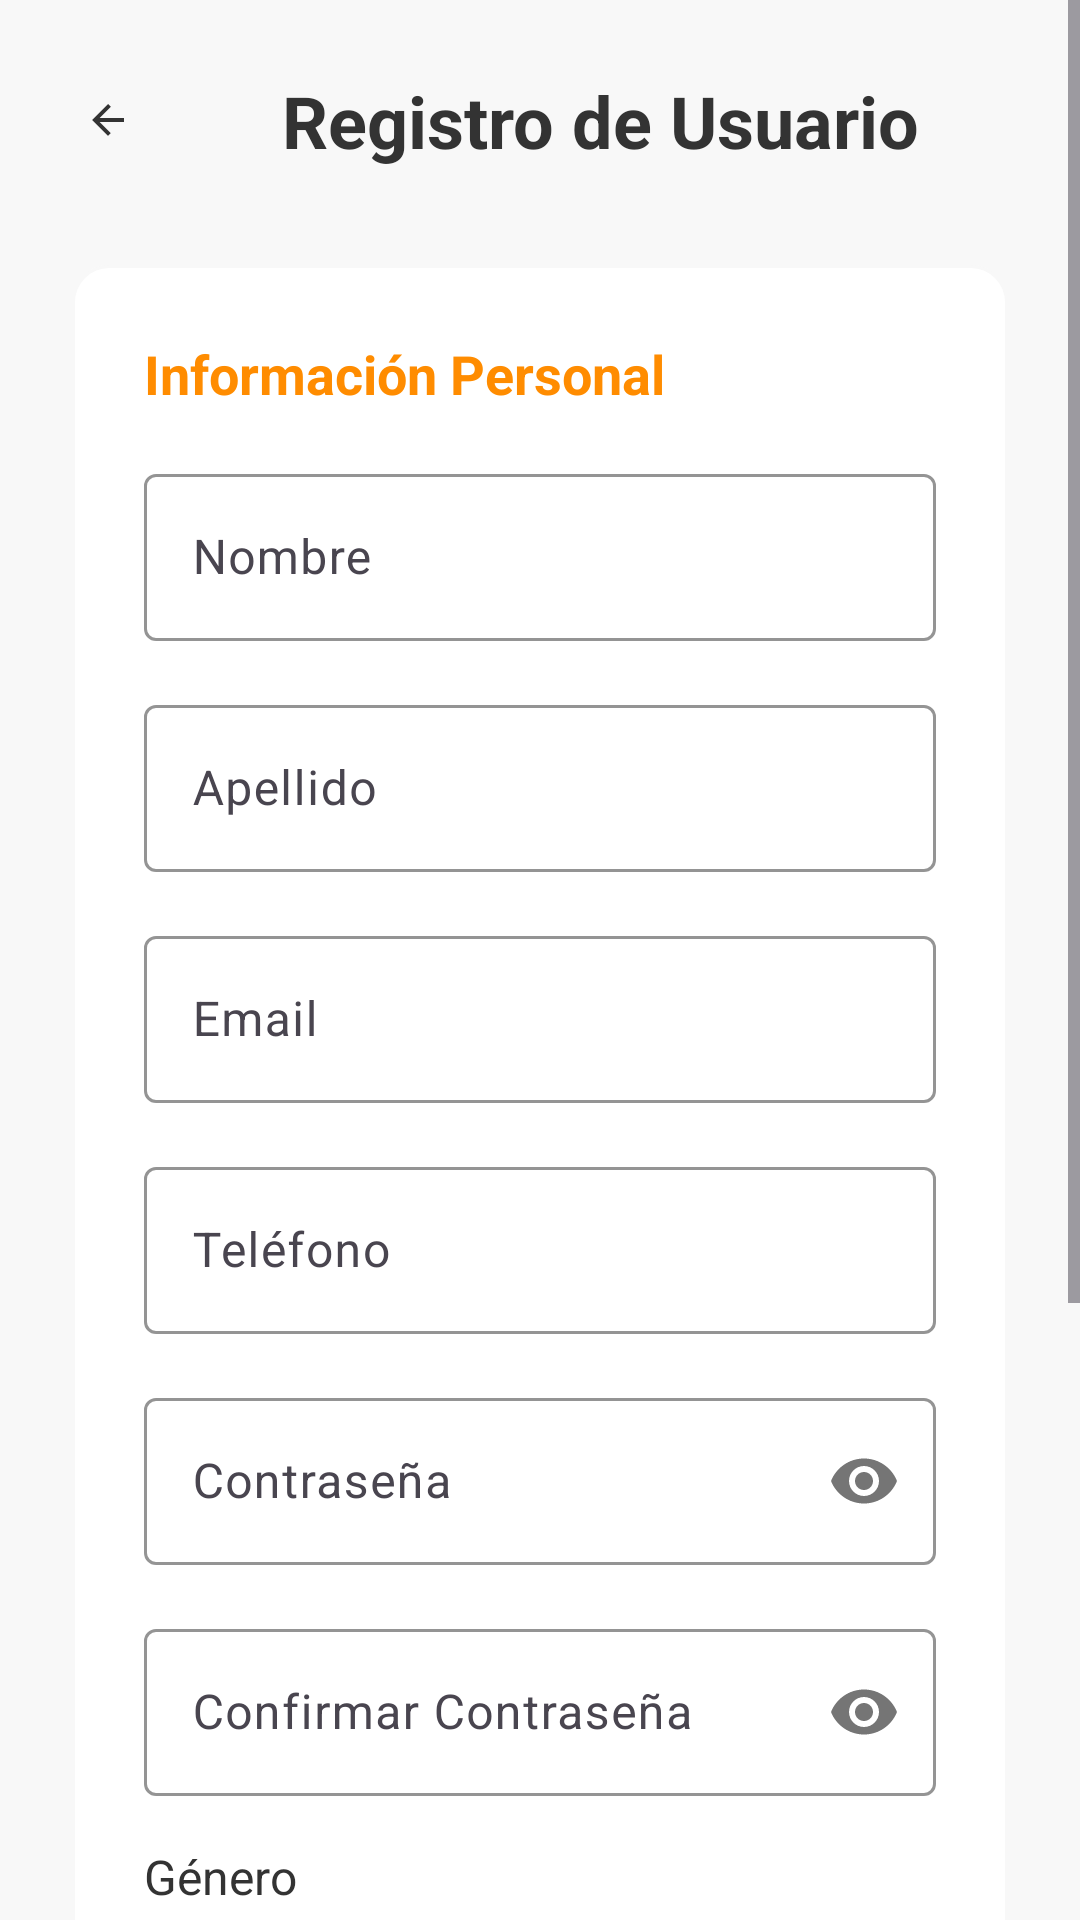

Named icons in this screenshot (1080 × 1920) and their centers, (x=x, y=y):
arrow back: (x=108, y=120)
